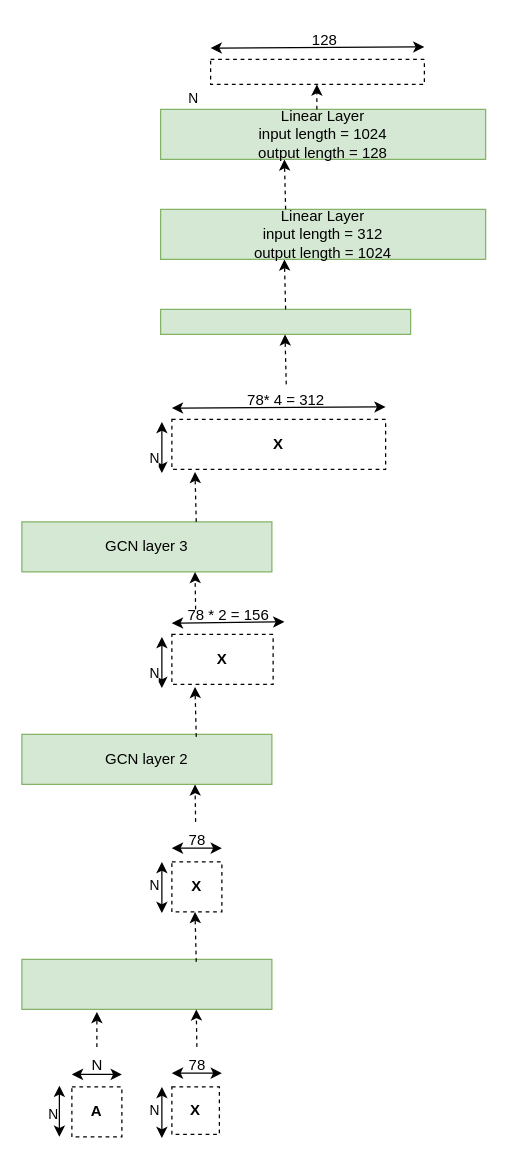
Some shapes in this 508 by 1171 pixel diagram are drawn without their labels. Here are the shapes that lost their labels. From the top down, the centre of each, then its label:
the point at 316,71: output
the point at 285,321: global max pooling
the point at 146,983: GCN layer 1
